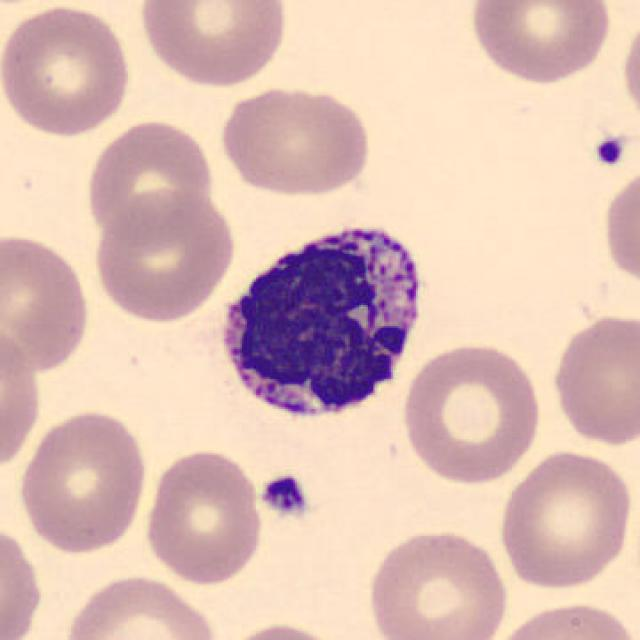Basophil: (208, 208, 434, 434)
Platelets: (258, 471, 309, 518), (588, 130, 630, 171)
RBC: (398, 338, 546, 486), (91, 185, 240, 325), (14, 406, 151, 557), (494, 446, 635, 592), (0, 0, 137, 139), (215, 83, 375, 199), (140, 444, 265, 589), (362, 523, 512, 640), (82, 115, 217, 243), (135, 0, 292, 90), (0, 229, 94, 376), (465, 0, 615, 86), (548, 308, 638, 449), (58, 571, 220, 640), (0, 321, 44, 476), (488, 597, 638, 640), (0, 520, 46, 640), (599, 162, 640, 293), (215, 619, 352, 640), (617, 7, 640, 132)
